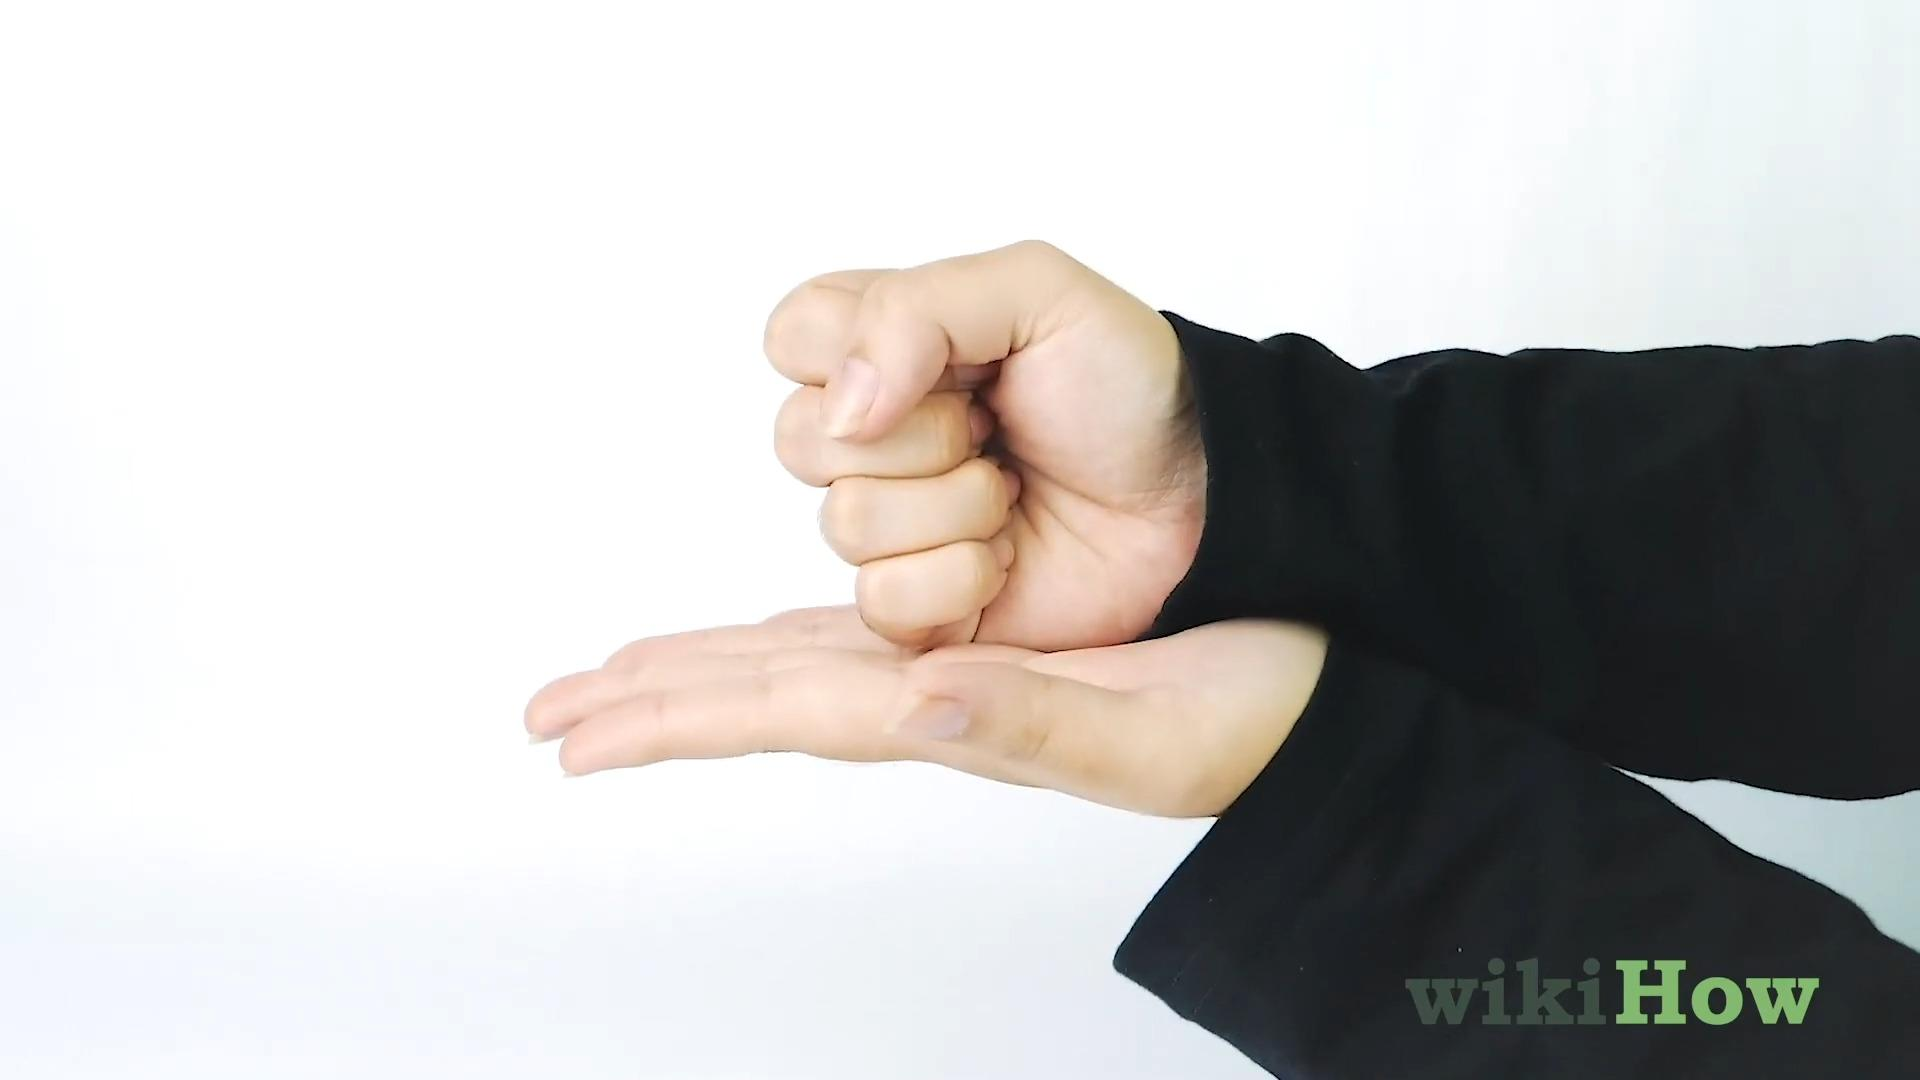Rock: (762, 243, 1207, 650)
